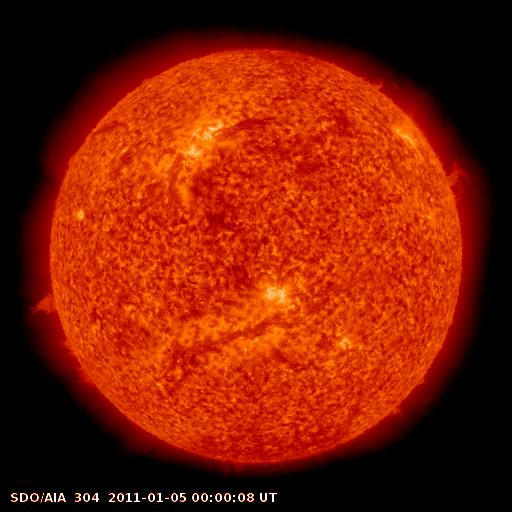prominence: (14, 280, 101, 394), (378, 363, 444, 431), (433, 145, 491, 211), (349, 62, 411, 104)
